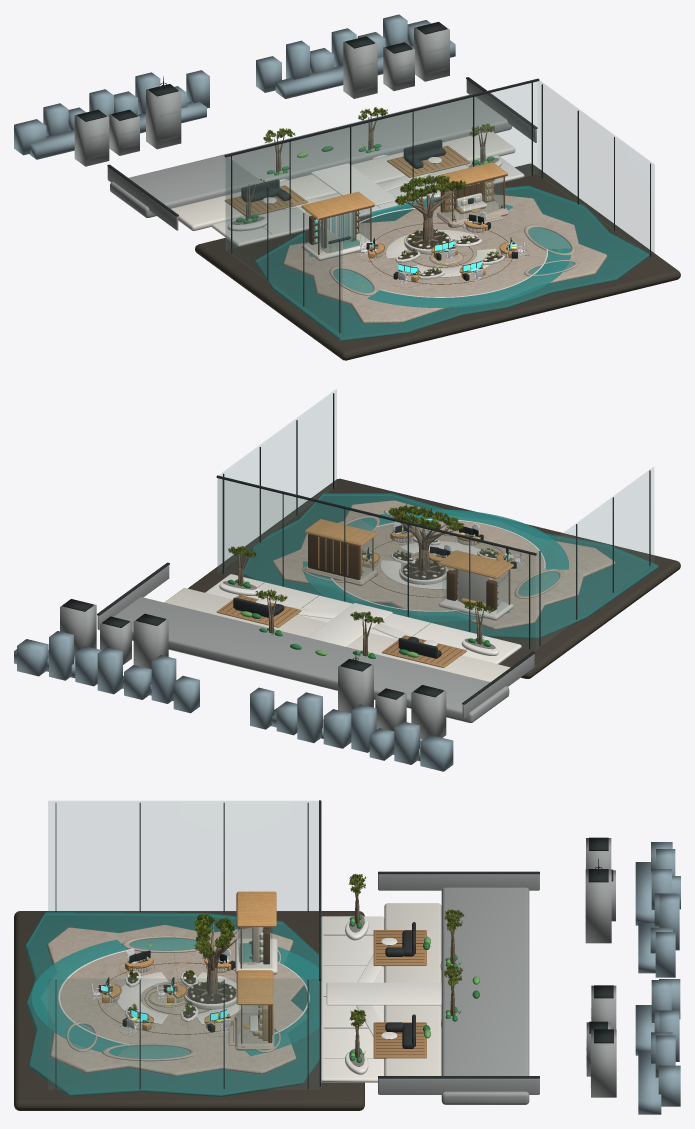
The model's file is garden-office-v9.glb.
The picture shows the model from 3 angles, top to bottom: view 1: azimuth 30°, elevation 25°; view 2: azimuth 150°, elevation 25°; view 3: azimuth 270°, elevation 25°; orthographic projection. The views are drawn at different scales.
Parts seen in each view (by area): view 1: RuntimeBatch_Low_iron_architectural_glass, RuntimeBatch_V9_architectural_concrete, RuntimeBatch_Limestone_joint, RuntimeBatch_Limestone_warm, RuntimeBatch_Shallow_turquoise_water, RuntimeBatch_V9_atmospheric_skyline, RuntimeBatch_V8_honed_limestone, RuntimeBatch_Graphite, RuntimeBatch_V9_sunlit_limestone, RuntimeBatch_Quarter_sawn_oak, RuntimeBatch_V9_outdoor_oak, RuntimeBatch_Old_ficus_bark (+6 smaller); view 2: RuntimeBatch_Low_iron_architectural_glass, RuntimeBatch_V9_architectural_concrete, RuntimeBatch_Limestone_joint, RuntimeBatch_V9_atmospheric_skyline, RuntimeBatch_Shallow_turquoise_water, RuntimeBatch_Limestone_warm, RuntimeBatch_V9_sunlit_limestone, RuntimeBatch_V8_honed_limestone, RuntimeBatch_Graphite, RuntimeBatch_Quarter_sawn_oak, RuntimeBatch_Dark_oak, RuntimeBatch_V9_outdoor_oak (+6 smaller); view 3: RuntimeBatch_Low_iron_architectural_glass, RuntimeBatch_V9_architectural_concrete, RuntimeBatch_Limestone_joint, RuntimeBatch_Limestone_warm, RuntimeBatch_Shallow_turquoise_water, RuntimeBatch_V9_sunlit_limestone, RuntimeBatch_V9_atmospheric_skyline, RuntimeBatch_V8_honed_limestone, RuntimeBatch_Graphite, RuntimeBatch_Quarter_sawn_oak, RuntimeBatch_V9_outdoor_oak, RuntimeBatch_Old_ficus_bark (+8 smaller).
Boxes of the visible parts, x1,y1,x2,y2 form: RuntimeBatch_Low_iron_architectural_glass: (89, 47, 654, 335); RuntimeBatch_V9_architectural_concrete: (74, 21, 536, 230); RuntimeBatch_Limestone_joint: (195, 163, 680, 360); RuntimeBatch_Limestone_warm: (283, 194, 607, 323); RuntimeBatch_Shallow_turquoise_water: (255, 185, 649, 341); RuntimeBatch_V9_atmospheric_skyline: (14, 14, 455, 159); RuntimeBatch_V8_honed_limestone: (171, 131, 547, 297); RuntimeBatch_Graphite: (77, 22, 650, 333); RuntimeBatch_V9_sunlit_limestone: (211, 154, 524, 246); RuntimeBatch_Quarter_sawn_oak: (301, 162, 516, 282); RuntimeBatch_V9_outdoor_oak: (224, 145, 470, 216); RuntimeBatch_Old_ficus_bark: (245, 115, 487, 245); RuntimeBatch_Low_iron_architectural_glass: (217, 389, 653, 650); RuntimeBatch_V9_architectural_concrete: (60, 565, 534, 739); RuntimeBatch_Limestone_joint: (188, 478, 680, 678); RuntimeBatch_V9_atmospheric_skyline: (14, 631, 453, 771); RuntimeBatch_Shallow_turquoise_water: (243, 493, 658, 639); RuntimeBatch_Limestone_warm: (272, 500, 615, 630); RuntimeBatch_V9_sunlit_limestone: (205, 574, 521, 664); RuntimeBatch_V8_honed_limestone: (164, 519, 545, 681); RuntimeBatch_Graphite: (62, 393, 650, 704); RuntimeBatch_Quarter_sawn_oak: (305, 519, 513, 607); RuntimeBatch_Dark_oak: (220, 533, 497, 664); RuntimeBatch_V9_outdoor_oak: (216, 595, 466, 667); RuntimeBatch_Low_iron_architectural_glass: (48, 801, 590, 1089); RuntimeBatch_V9_architectural_concrete: (378, 838, 616, 1104); RuntimeBatch_Limestone_joint: (14, 911, 364, 1110); RuntimeBatch_Limestone_warm: (47, 925, 304, 1076); RuntimeBatch_Shallow_turquoise_water: (25, 912, 321, 1096); RuntimeBatch_V9_sunlit_limestone: (321, 916, 441, 1082); RuntimeBatch_V9_atmospheric_skyline: (635, 842, 680, 1114); RuntimeBatch_V8_honed_limestone: (58, 903, 441, 1075); RuntimeBatch_Graphite: (55, 800, 613, 1089); RuntimeBatch_Quarter_sawn_oak: (102, 891, 276, 1040); RuntimeBatch_V9_outdoor_oak: (373, 930, 426, 1058); RuntimeBatch_Old_ficus_bark: (190, 885, 455, 1057).
Size of the model in its own units: 46.55 by 11.33 by 53.96.
29 materials, 5 textured.
